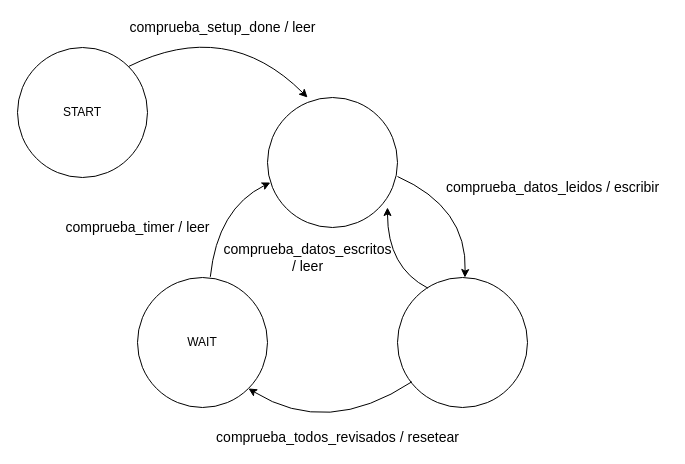
Some shapes in this 685 by 464 pixel diagram are drawn without their labels. Here are the shapes that lost their labels. From the top down, the centre of each, then its label:
At point (332, 162): "SCAN_READ_DATA".
At point (462, 342): "WRITE_DATA".
